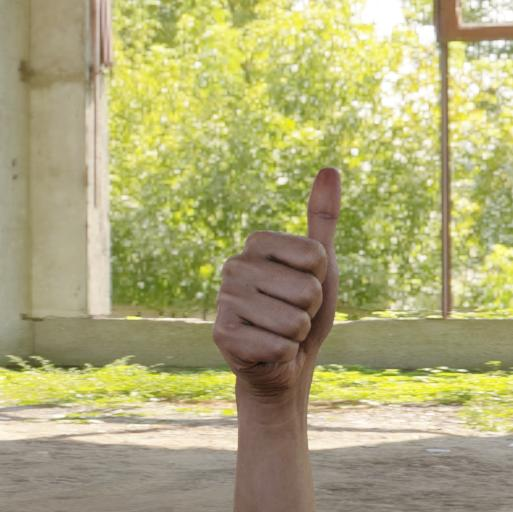thumbs-up: (209, 162, 346, 394)
